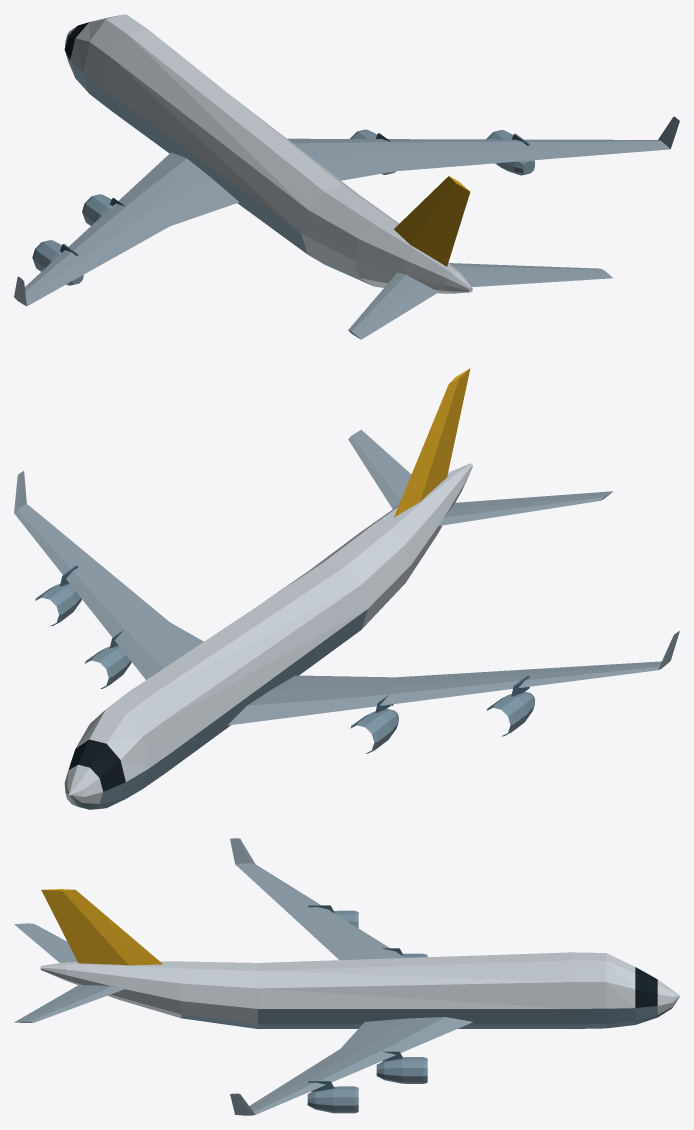
The picture shows the model from 3 angles, top to bottom: view 1: azimuth 30°, elevation 25°; view 2: azimuth 150°, elevation 25°; view 3: azimuth 270°, elevation 25°; orthographic projection. The views are drawn at different scales.
Visible parts, largest first — view 1: lod0; view 2: lod0; view 3: lod0.
Part boxes in pixels (<box>): lod0: <box>14,14,679,339</box>; lod0: <box>14,368,679,809</box>; lod0: <box>14,838,679,1115</box>.
Size of what is drawn, in the model's own units: 0.9069 by 0.2333 by 1.
